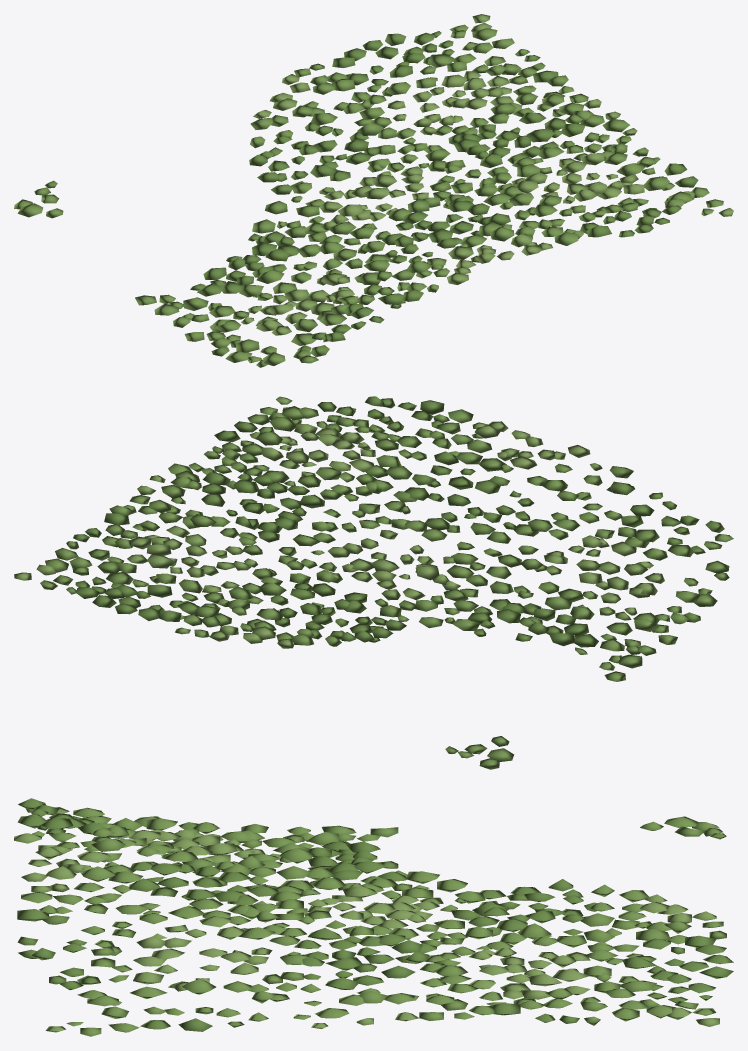
The model's file is canopy-1--3--6.glb.
3 views of the same model, one above another, from view 1: azimuth 30°, elevation 25°; view 2: azimuth 150°, elevation 25°; view 3: azimuth 270°, elevation 25° (orthographic). The views are drawn at different scales.
Size of the model in its own units: 518 by 100 by 515.
Materials: 1 (1 with a texture image).
